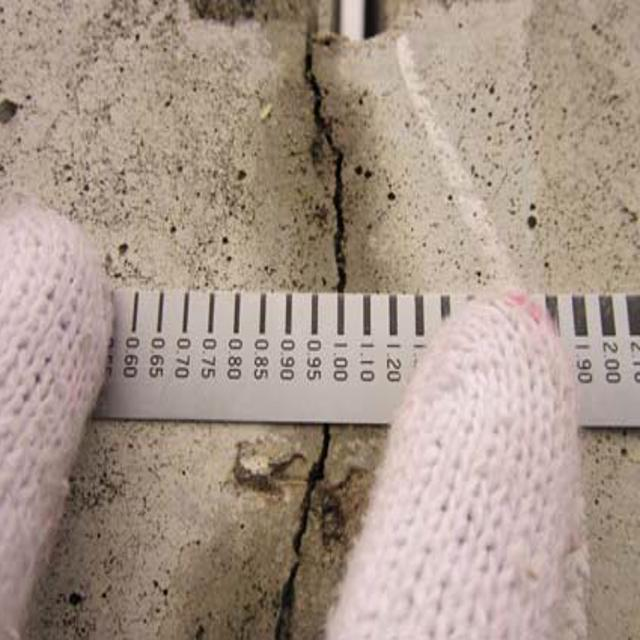crack: (280, 23, 371, 290), (252, 415, 332, 640)
